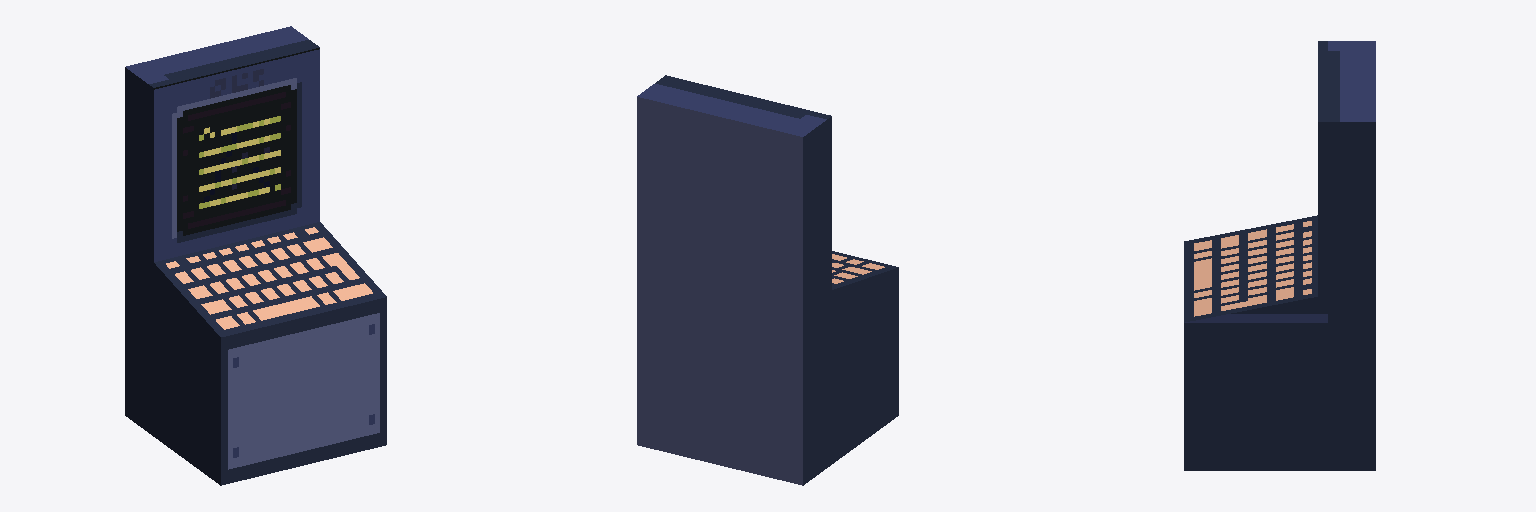
3 views of the same model, side by side, from view 1: azimuth 30°, elevation 25°; view 2: azimuth 150°, elevation 25°; view 3: azimuth 270°, elevation 25° (orthographic).
Parts seen in each view (by area): view 1: Cube_Cube.002; view 2: Cube_Cube.002; view 3: Cube_Cube.002.
Boxes of the visible parts, box(x1,y1,x2,y2) form: Cube_Cube.002: box(125, 26, 386, 485); Cube_Cube.002: box(637, 75, 898, 485); Cube_Cube.002: box(1184, 41, 1375, 470).
Bounding box in the file's own units: 2 × 4 × 2.
1 materials, 1 textured.